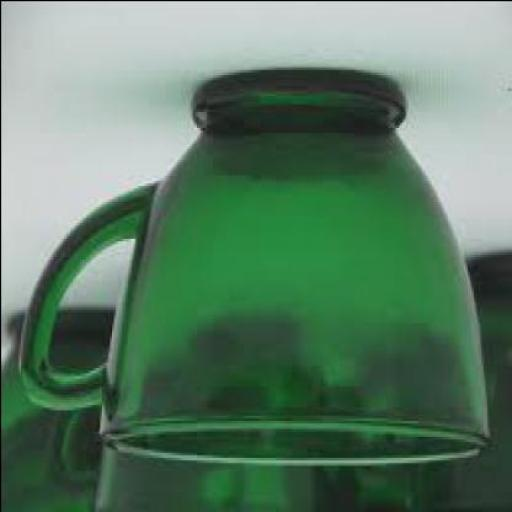glass: (20, 70, 490, 464)
